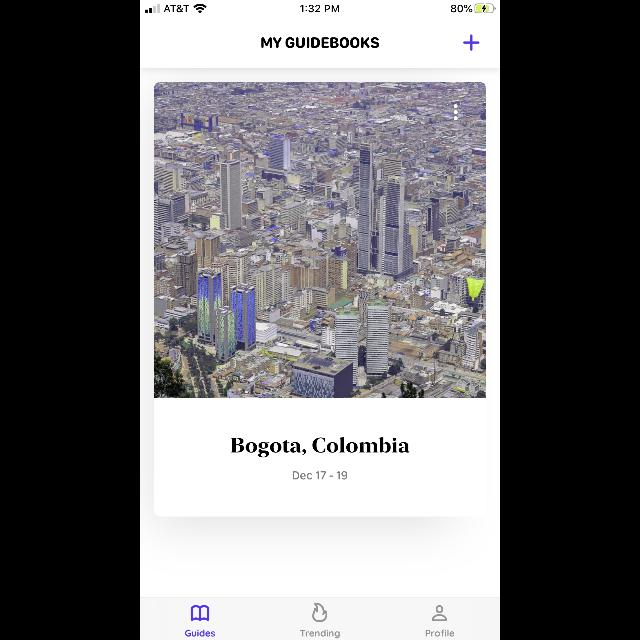icon: (190, 605, 210, 621), (463, 35, 479, 51), (432, 605, 446, 621)
image: (154, 82, 486, 398), (312, 602, 328, 622)
text: (230, 437, 410, 457), (261, 38, 379, 48), (292, 472, 348, 480), (300, 630, 340, 638), (185, 630, 215, 636), (426, 630, 454, 636)
uppertaskbar: (140, 0, 500, 14)
